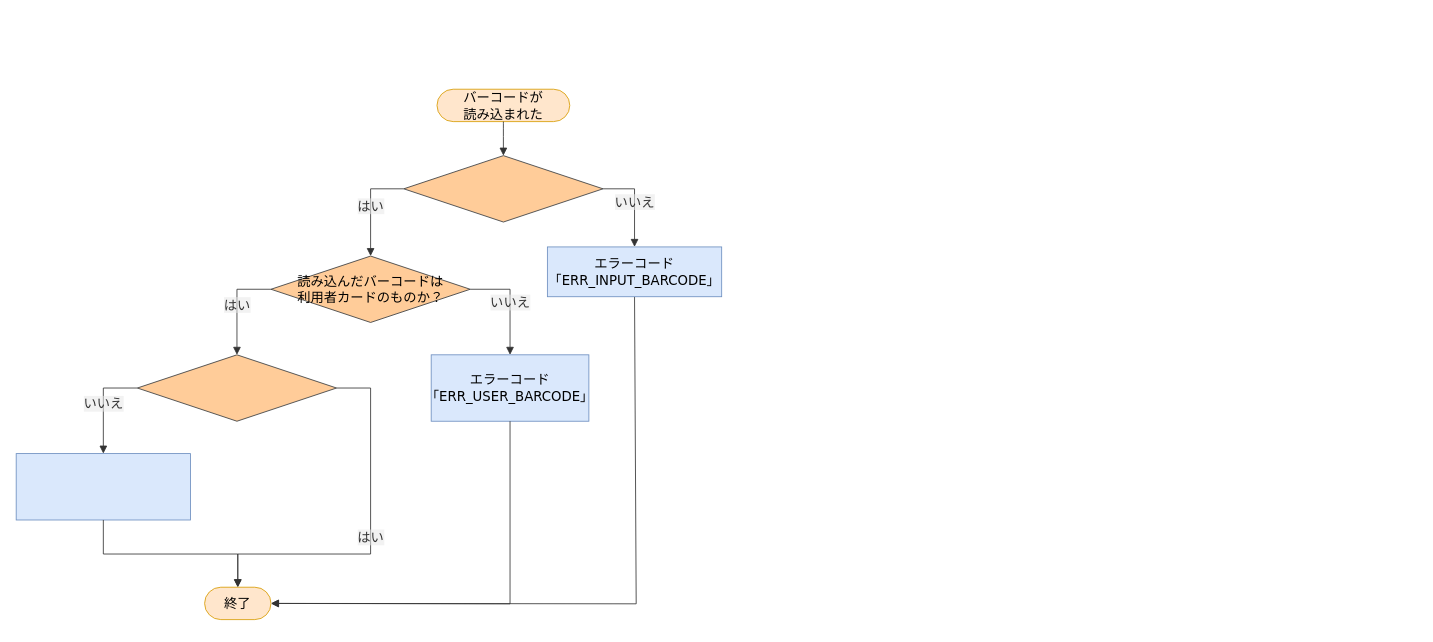
Image size: 1433x642. Some labels were removed from this diagram. Each missing label, with the centre of its shape:
エラーコード「ERR_NON_EXIST_USER」: the point at 102,486
バーコードが正常に 読み込めたか？: the point at 503,188
読み込まれたカードの利用者がデータベースに存在しているか？: the point at 237,387
